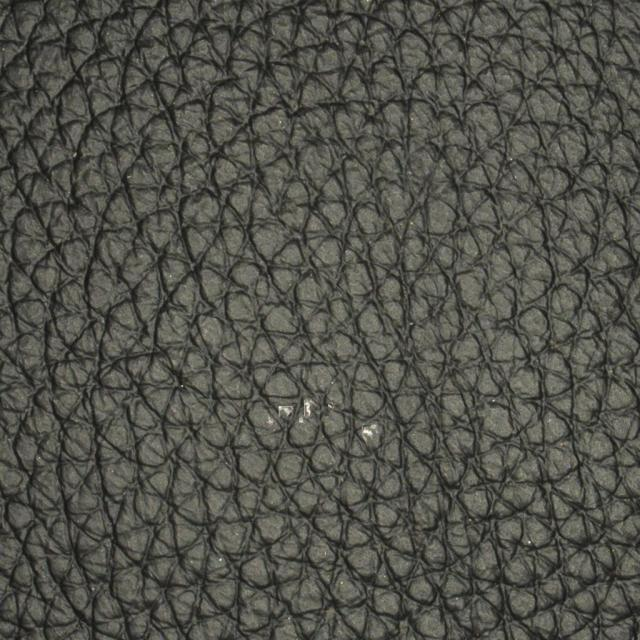Rotten surface: (250, 313, 408, 525)
